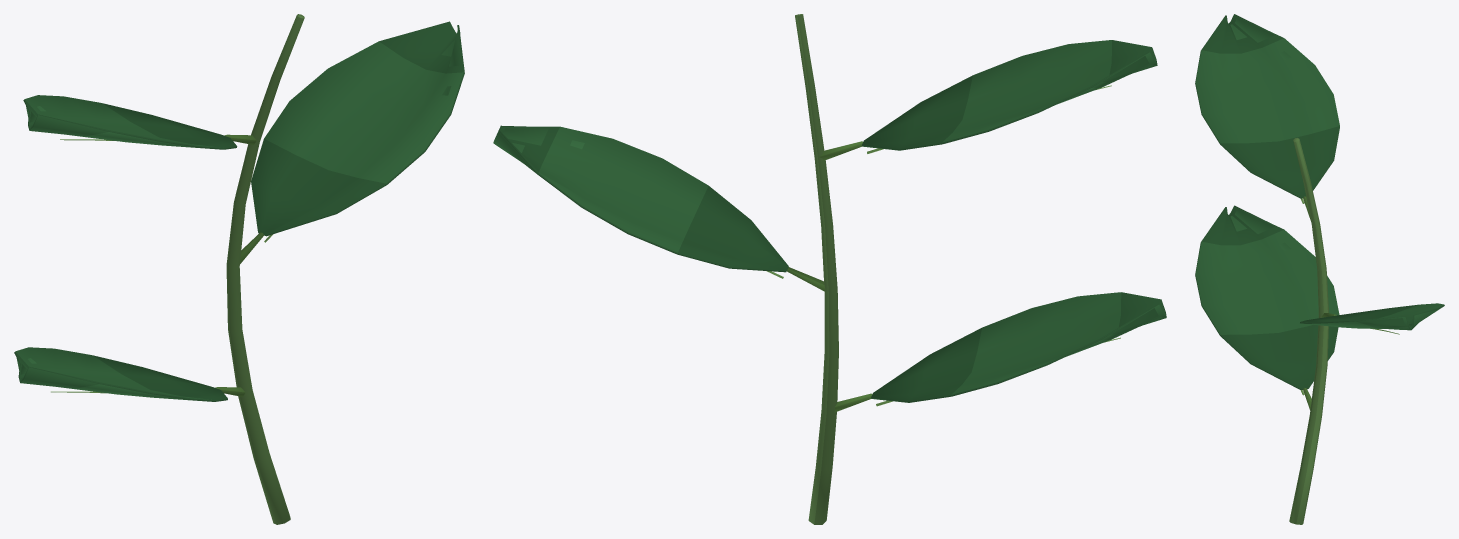
File: garden-orchid-bud-stem-1.glb
3 views of the same model, side by side, from view 1: azimuth 30°, elevation 25°; view 2: azimuth 150°, elevation 25°; view 3: azimuth 270°, elevation 25° (orthographic). The views are drawn at different scales.
Parts seen in each view (by area): view 1: orchid-bud-stem-1; view 2: orchid-bud-stem-1; view 3: orchid-bud-stem-1.
Part boxes in pixels (left/top/right/bottom): orchid-bud-stem-1: left=14, top=14, right=464, bottom=524; orchid-bud-stem-1: left=493, top=14, right=1166, bottom=524; orchid-bud-stem-1: left=1195, top=14, right=1444, bottom=524.
Bounding box in the file's own units: 0.4769 × 0.4195 × 0.2379.
